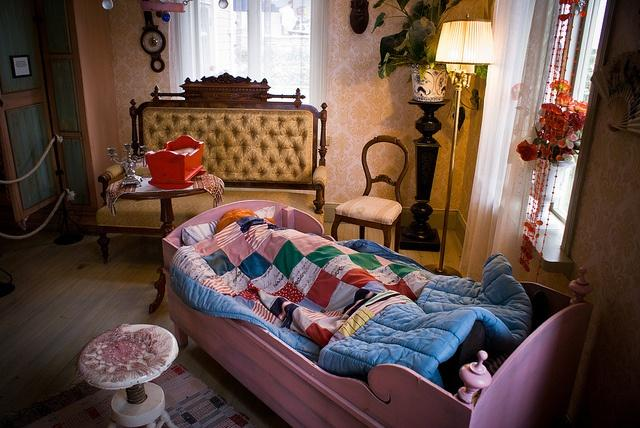Kursi: (329, 134, 409, 249)
